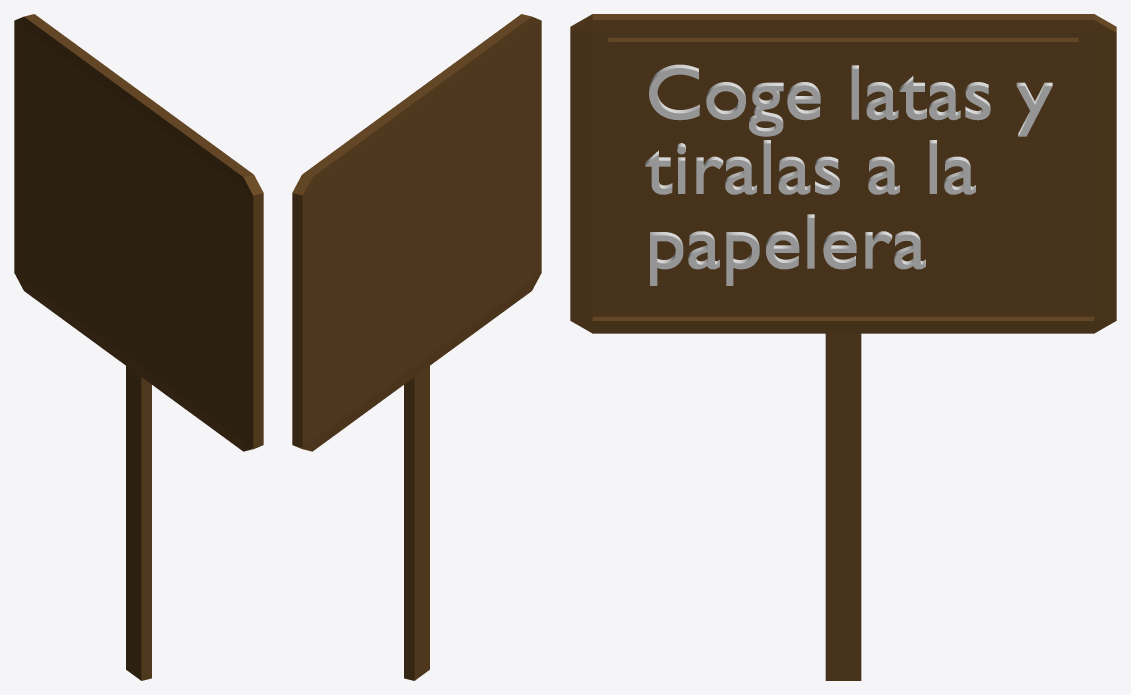
The model's file is Info2.fbx.
3 views of the same model, side by side, from view 1: azimuth 30°, elevation 25°; view 2: azimuth 150°, elevation 25°; view 3: azimuth 270°, elevation 25° (orthographic). The views are drawn at different scales.
Visible parts, largest first — view 1: Cube.003; view 2: Cube.003; view 3: Cube.003.
Part boxes in pixels (x1=…): Cube.003: x1=14, y1=14, x2=263, y2=680; Cube.003: x1=292, y1=14, x2=541, y2=680; Cube.003: x1=570, y1=14, x2=1116, y2=680.
Size of the model in its own units: 3.6 by 112 by 84.21.
